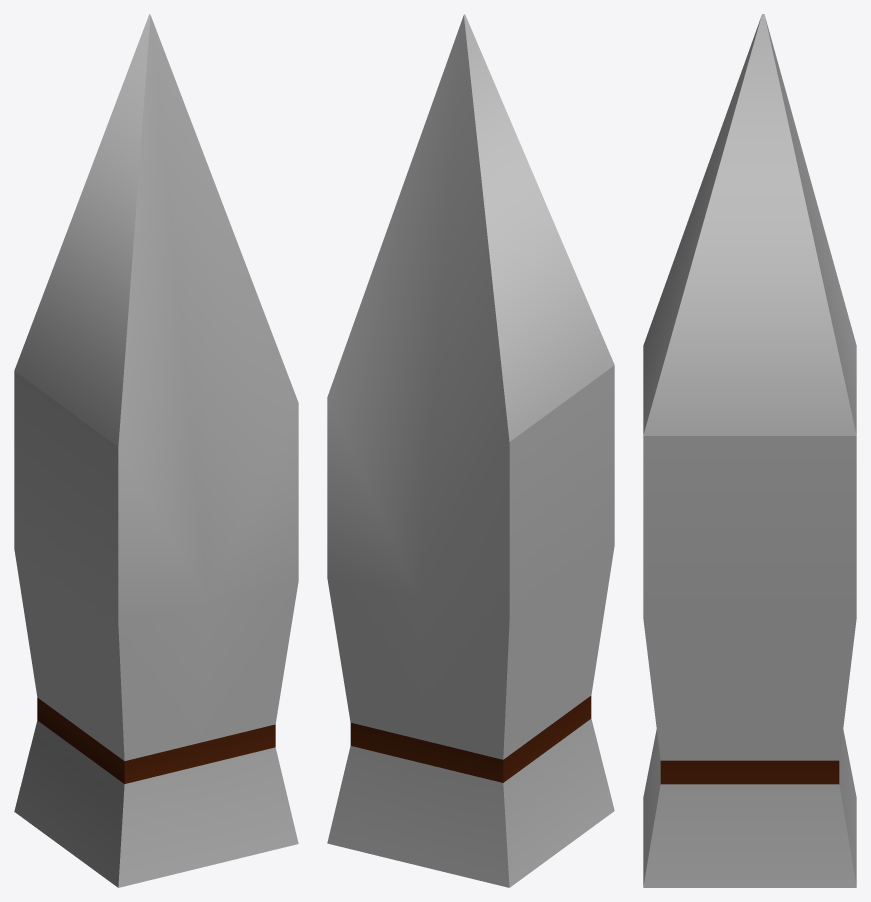
Rendered from unpassable one.FBX.
The picture shows the model from 3 angles, left to right: view 1: azimuth 30°, elevation 25°; view 2: azimuth 150°, elevation 25°; view 3: azimuth 270°, elevation 25°; orthographic projection. The views are drawn at different scales.
Parts seen in each view (by area): view 1: Box002; view 2: Box002; view 3: Box002.
Part boxes in pixels (x1,y1,x2,y2): Box002: (14, 14, 298, 887); Box002: (327, 14, 614, 887); Box002: (643, 14, 856, 887).
Size of the model in its own units: 7 by 30 by 7.
